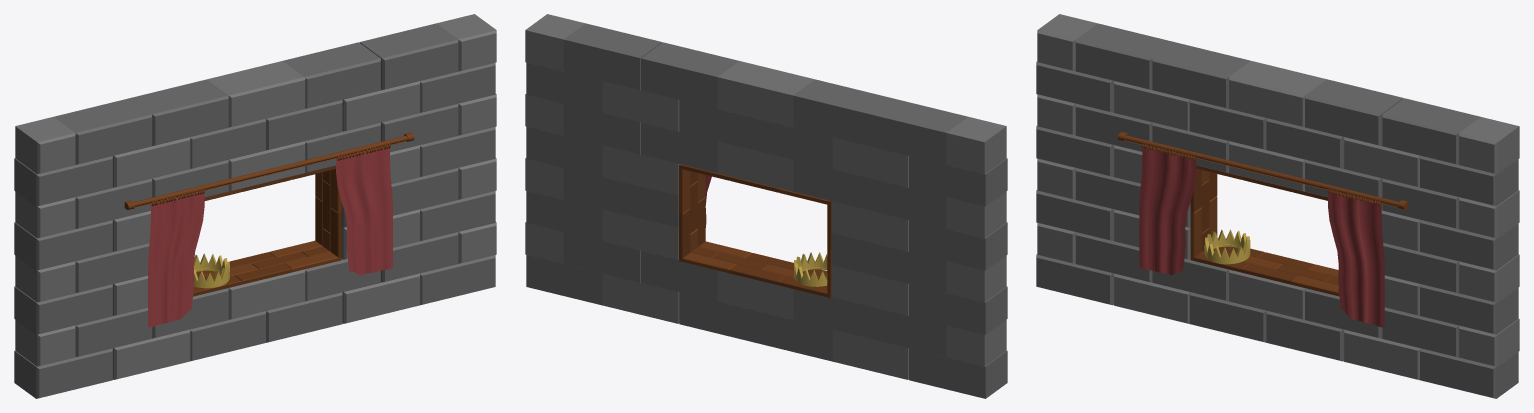
Rendered from castlewindow.fbx.
3 views of the same model, side by side, from view 1: azimuth 30°, elevation 25°; view 2: azimuth 150°, elevation 25°; view 3: azimuth 330°, elevation 25° (orthographic).
Visible parts, largest first — view 1: BézierCurve.001, BézierCurve, Cube.003, Cube.566, Cube.568, Cube.567, Cube.573, Cube.008, Cube.010, Cube.009, Cube.007, Cube.016 (+40 smaller); view 2: Cube.003, Cube.567, Cube.573, Cube.566, Cube.568, Cube.008, Cube.010, Cube.009, Cube.007, Cube.016, Cube.519, Cube.538 (+41 smaller); view 3: BézierCurve, BézierCurve.001, Cube.573, Cube.566, Cube.567, Cube.003, Cube.568, Cube.012, Cube.013, Cube.014, Cube.011, Cube.020 (+41 smaller).
Boxes of the visible parts, <box> form: BézierCurve.001: <box>336,146,392,275</box>; BézierCurve: <box>148,191,204,327</box>; Cube.003: <box>359,23,458,89</box>; Cube.566: <box>54,98,152,164</box>; Cube.568: <box>207,61,305,127</box>; Cube.567: <box>130,79,228,146</box>; Cube.573: <box>283,42,380,108</box>; Cube.008: <box>14,220,112,270</box>; Cube.010: <box>14,348,112,398</box>; Cube.009: <box>14,284,112,334</box>; Cube.007: <box>14,156,112,206</box>; Cube.016: <box>15,117,75,174</box>; Cube.003: <box>563,23,662,89</box>; Cube.567: <box>793,79,891,146</box>; Cube.573: <box>641,42,738,108</box>; Cube.566: <box>870,98,967,164</box>; Cube.568: <box>717,61,814,127</box>; Cube.008: <box>909,220,1007,270</box>; Cube.010: <box>909,348,1007,398</box>; Cube.009: <box>909,284,1007,334</box>; Cube.007: <box>909,156,1007,206</box>; Cube.016: <box>946,117,1006,174</box>; Cube.519: <box>831,265,908,315</box>; Cube.538: <box>831,201,908,251</box>; BézierCurve: <box>1139,146,1196,275</box>; BézierCurve.001: <box>1328,191,1384,327</box>; Cube.573: <box>1305,79,1403,145</box>; Cube.566: <box>1075,23,1173,89</box>; Cube.567: <box>1152,42,1250,108</box>; Cube.003: <box>1382,98,1480,164</box>; Cube.568: <box>1229,61,1326,127</box>; Cube.012: <box>1420,220,1518,270</box>; Cube.013: <box>1420,284,1518,334</box>; Cube.014: <box>1420,348,1518,398</box>; Cube.011: <box>1420,156,1518,206</box>; Cube.020: <box>1459,117,1519,174</box>.
Bounding box in the file's own units: 601 × 320 × 65.62.
